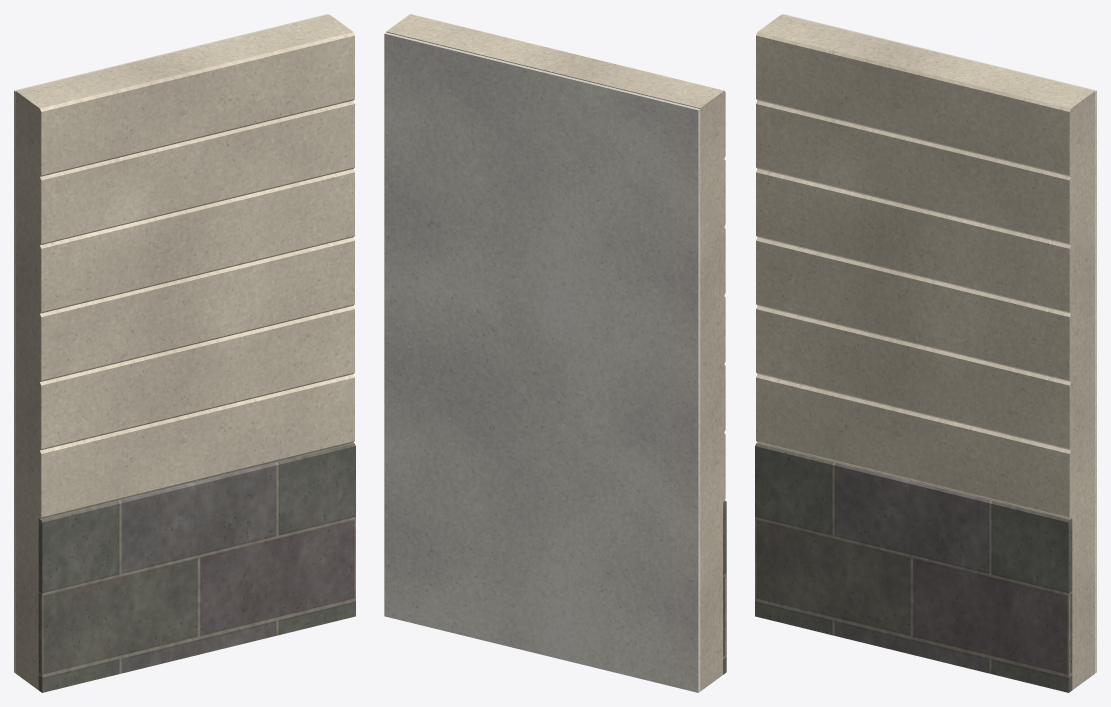
Rendered from g_wall_plain.glb.
3 renders of one model, left to right at view 1: azimuth 30°, elevation 25°; view 2: azimuth 150°, elevation 25°; view 3: azimuth 330°, elevation 25°, orthographic.
Visible parts, largest first — view 1: g_wall_plain_rust, g_wall_plain_plinth, g_wall_plain_plaster; view 2: g_wall_plain_plaster, g_wall_plain_rust, g_wall_plain_plinth; view 3: g_wall_plain_rust, g_wall_plain_plinth, g_wall_plain_plaster.
Boxes of the visible parts, x1,y1,x2,y2 form: g_wall_plain_rust: [16, 14, 354, 689]; g_wall_plain_plinth: [38, 442, 355, 692]; g_wall_plain_plaster: [14, 14, 328, 673]; g_wall_plain_plaster: [384, 32, 700, 692]; g_wall_plain_rust: [386, 14, 725, 691]; g_wall_plain_plinth: [723, 500, 726, 674]; g_wall_plain_rust: [756, 14, 1094, 689]; g_wall_plain_plinth: [755, 442, 1072, 692]; g_wall_plain_plaster: [782, 14, 1096, 673].
Size of the model in its own units: 2 by 3.55 by 0.31.
3 materials, 3 textured.
